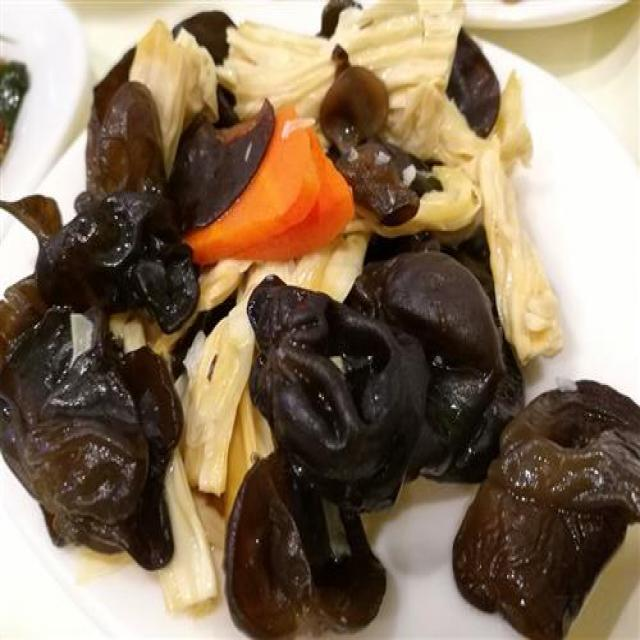Auricularia auricula: (239, 250, 640, 640), (0, 288, 180, 568), (86, 9, 275, 207), (0, 182, 206, 321), (314, 65, 416, 227)
